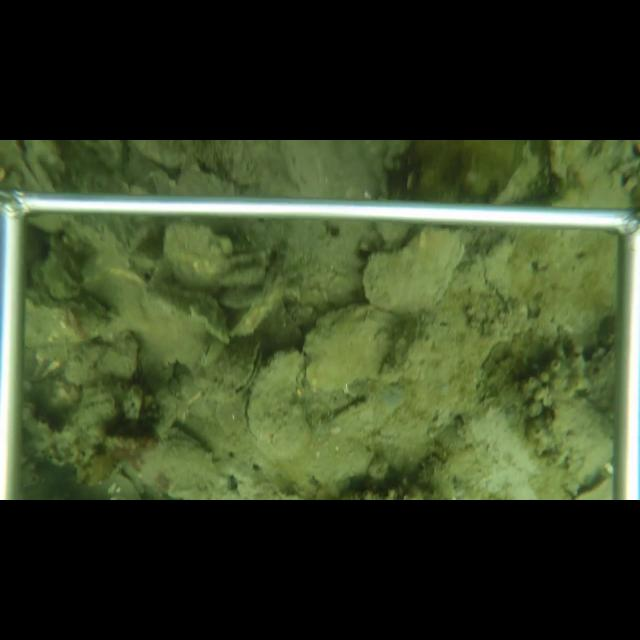Oyster-Closed: (389, 252, 515, 421), (360, 224, 465, 314), (305, 304, 408, 394), (243, 347, 314, 461), (189, 333, 266, 405), (227, 257, 289, 334), (490, 142, 552, 206), (199, 339, 222, 367)
